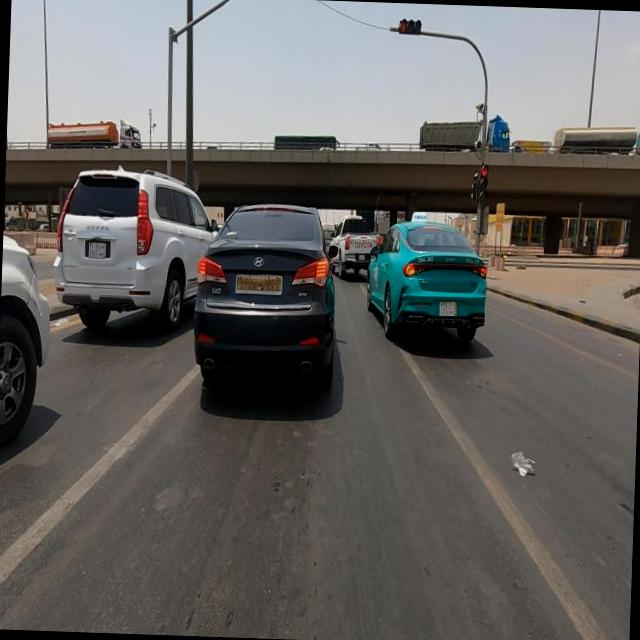debris: (474, 411, 556, 517)
